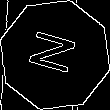N_E: (25, 29, 85, 81)
